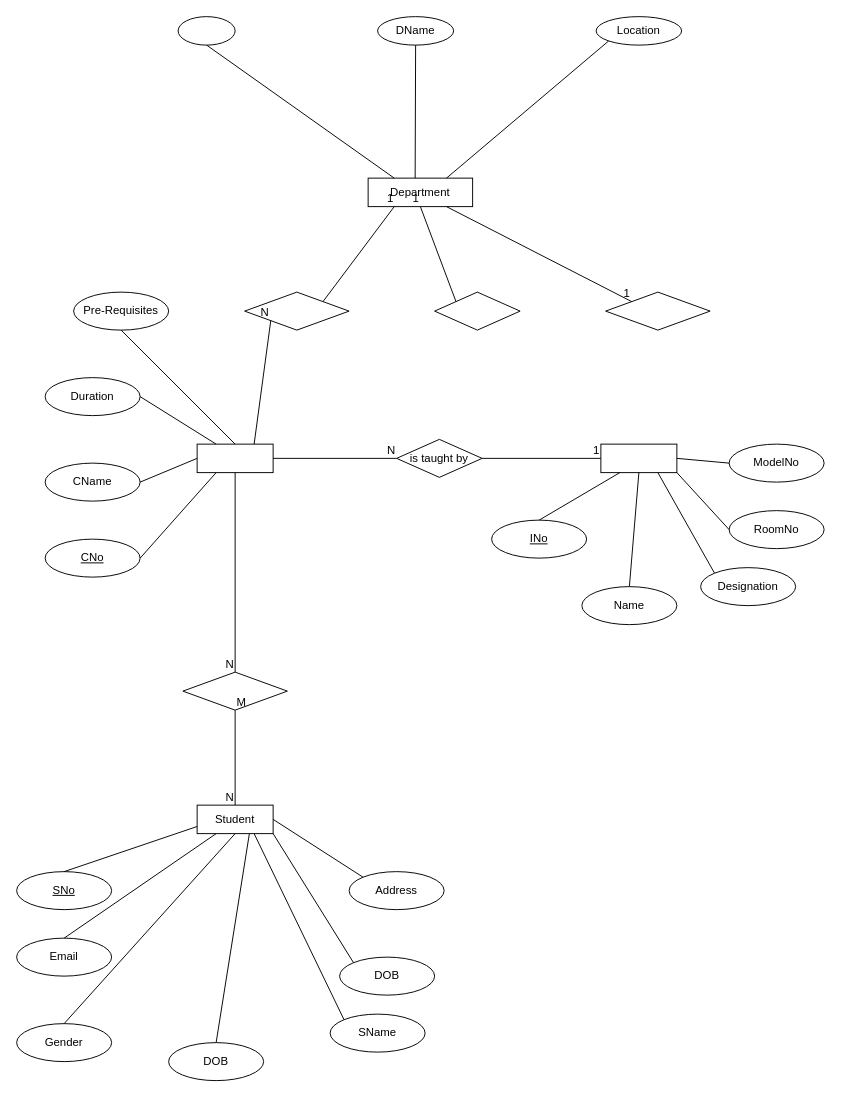
This 841x1097 diagram has some shape labels left out. Here are the shapes that lost their labels. From the top down, the centre of each, then its label:
At (206,30): "DNo".
At (296,310): "Offers".
At (477,310): "Headed by".
At (657,310): "Has".
At (234,458): "Course".
At (638,458): "Instructor".
At (234,690): "EnrolledBy".
